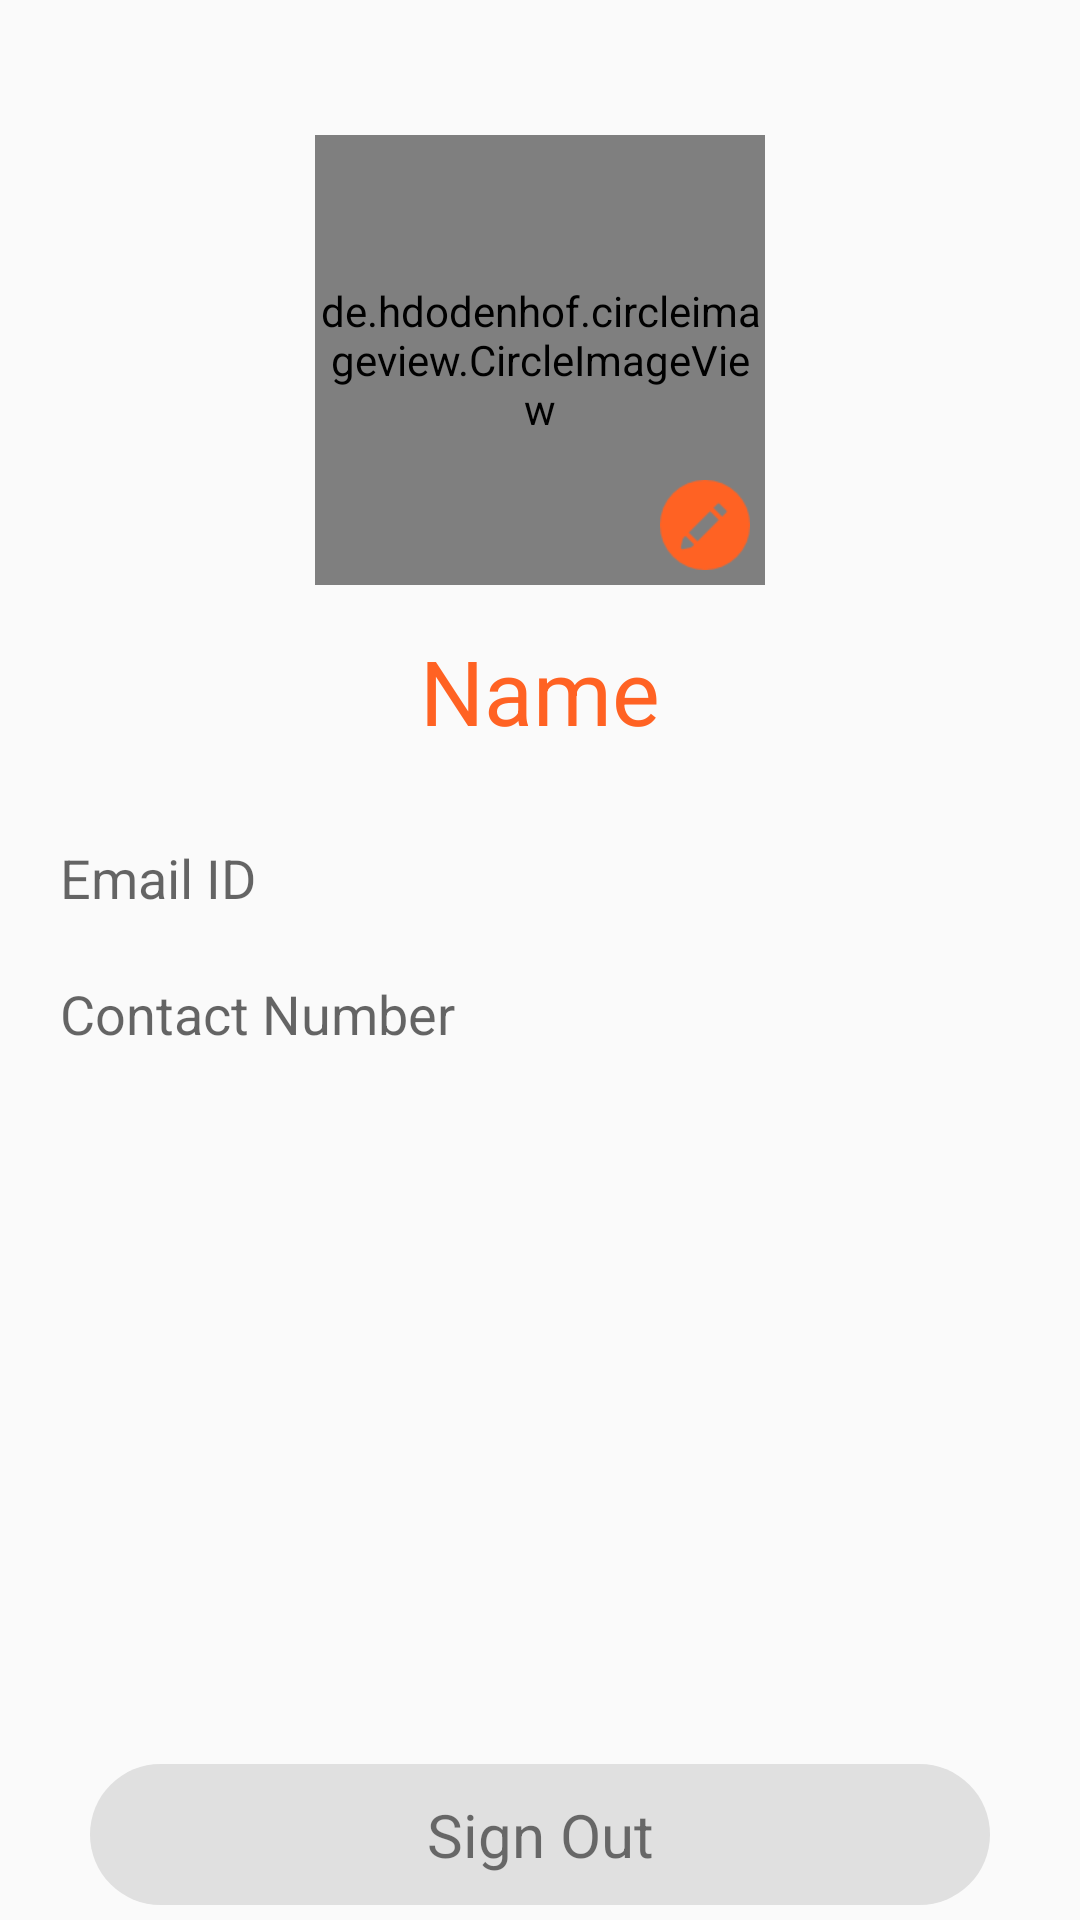

Icons on this 1080*1920 Android screen, each with the point to tap as [x,y]:
edit profile: [705,525]
